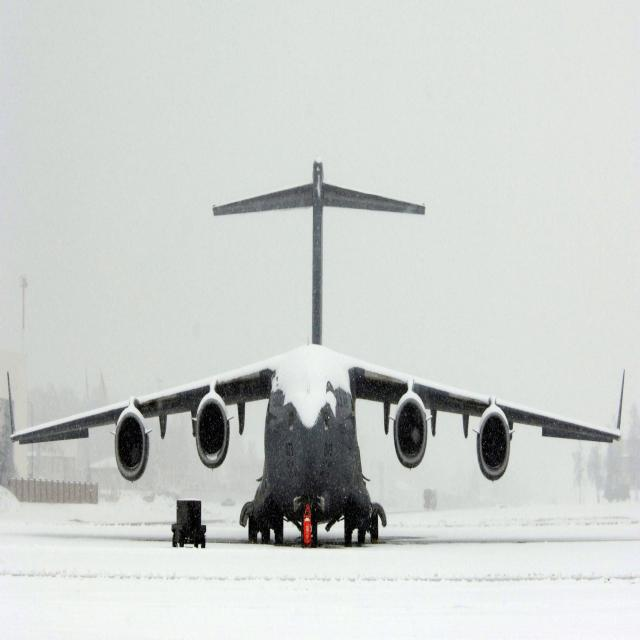MIL_Plane: (6, 158, 625, 542)
